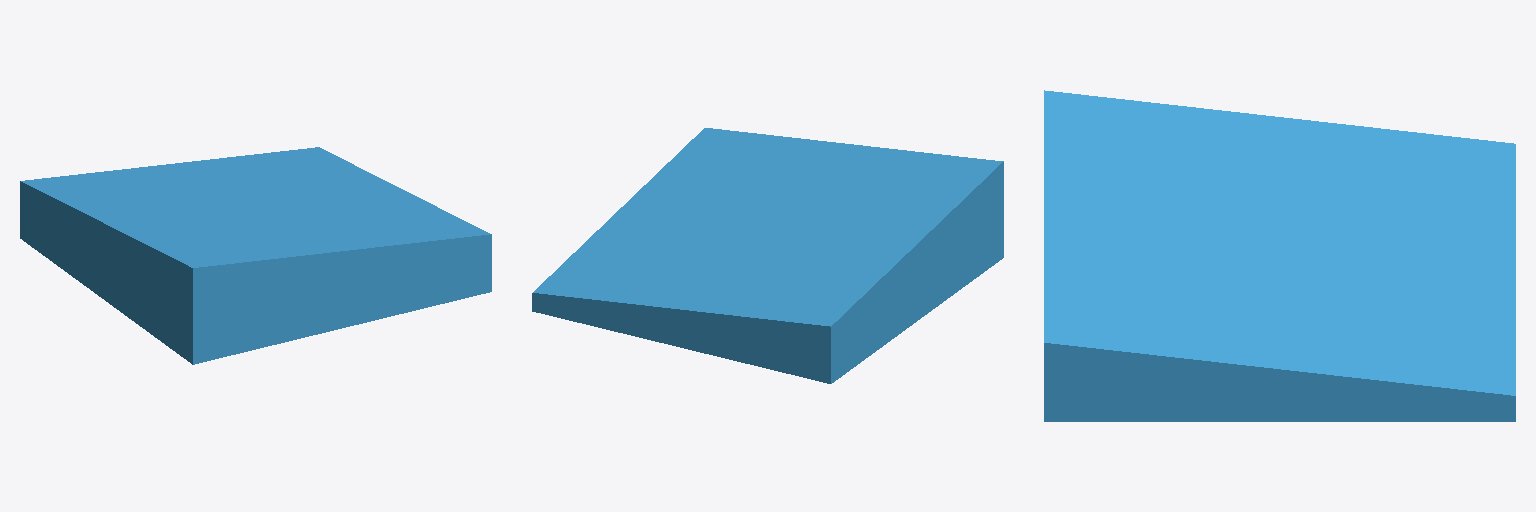
URDF robot description (diag_Y_positive_10_lifted):
<?xml version="1.0" ?>
<robot name="diag_Y_positive_10_lifted">
<!-- Used for fixing robot to Gazebo 'base_link' -->

<link name="world"/>

  <joint name="fixed" type="fixed">
    <parent link="world"/>
    <child link="diag_Y_positive_10_lifted__link"/>
  </joint>

  <link name="diag_Y_positive_10_lifted__link">
    <inertial>
      <mass value="10"/>
      <inertia ixx="1.0" ixy="0.0" ixz="0.0" iyy="1.0" iyz="0.0" izz="1.0"/>
    </inertial>
    <collision>
      <geometry>
         <mesh filename="package://pal_gazebo_worlds/models/diag_Y_positive_10_lifted/meshes/diag_Y_positive_10_degree_slope_lifted.stl" scale="0.00999 0.00999 0.00999"/>
      </geometry>
      <surface>
        <friction>
          <ode>
            <mu1 value="1.0" />
            <mu2 value="1.0" />
            <kp  value="1e5" />
            <kd  value="1e2" />
            <maxVel  value="100.0" />
            <minDepth  value="0.0" />
            <dampingFactor>0.01</dampingFactor>
          </ode>
        </friction>
      </surface>
    </collision>
    <visual>
      <geometry>
        <mesh filename="package://pal_gazebo_worlds/models/diag_Y_positive_10_lifted/meshes/diag_Y_positive_10_degree_slope_lifted.stl" scale="0.00999 0.00999 0.00999"/>
      </geometry>
      <material name="white">
      </material>
    </visual>
  </link>



</robot>

--- Facts derived from the render (not from the file) ---
The picture shows the robot from 3 angles, left to right: view 1: azimuth 30°, elevation 25°; view 2: azimuth 150°, elevation 25°; view 3: azimuth 270°, elevation 25°; orthographic projection.
Robot: diag_Y_positive_10_lifted — 2 links, 1 joints (1 fixed); root link world; default pose: all joints at 0.
Visible links, largest first — view 1: diag_Y_positive_10_lifted__link; view 2: diag_Y_positive_10_lifted__link; view 3: diag_Y_positive_10_lifted__link.
Boxes of the visible links, x1,y1,x2,y2 form: diag_Y_positive_10_lifted__link: [20, 147, 491, 364]; diag_Y_positive_10_lifted__link: [532, 128, 1003, 383]; diag_Y_positive_10_lifted__link: [1044, 90, 1515, 421].
Size in the robot's own frame: 0.3996 by 0.3996 by 0.1236 metres.
1 mesh visuals loaded from 1 distinct referenced files (1 binary STL).